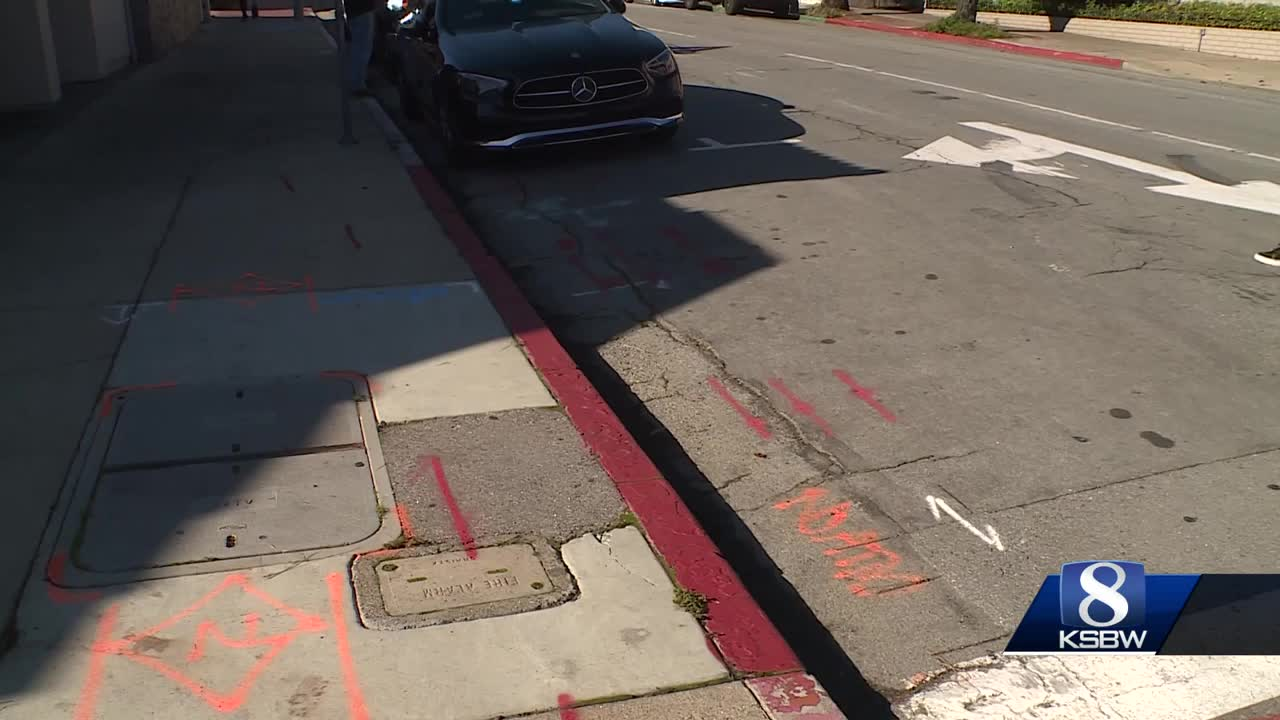Car: (396, 5, 703, 163)
